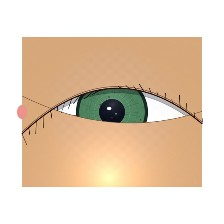hemorrhage_spot: (51, 93, 133, 158)
